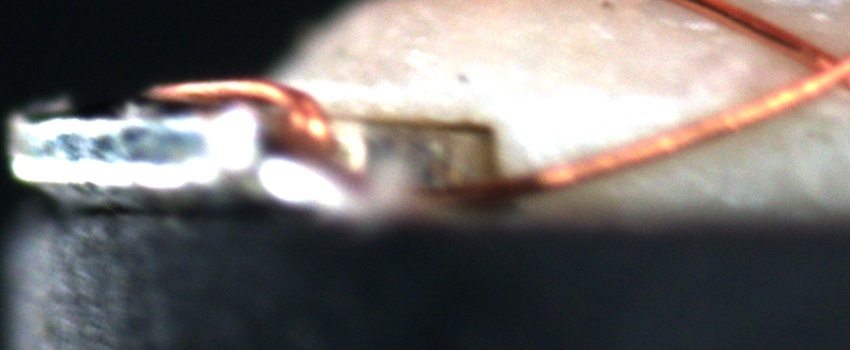TE: (137, 68, 338, 167)
